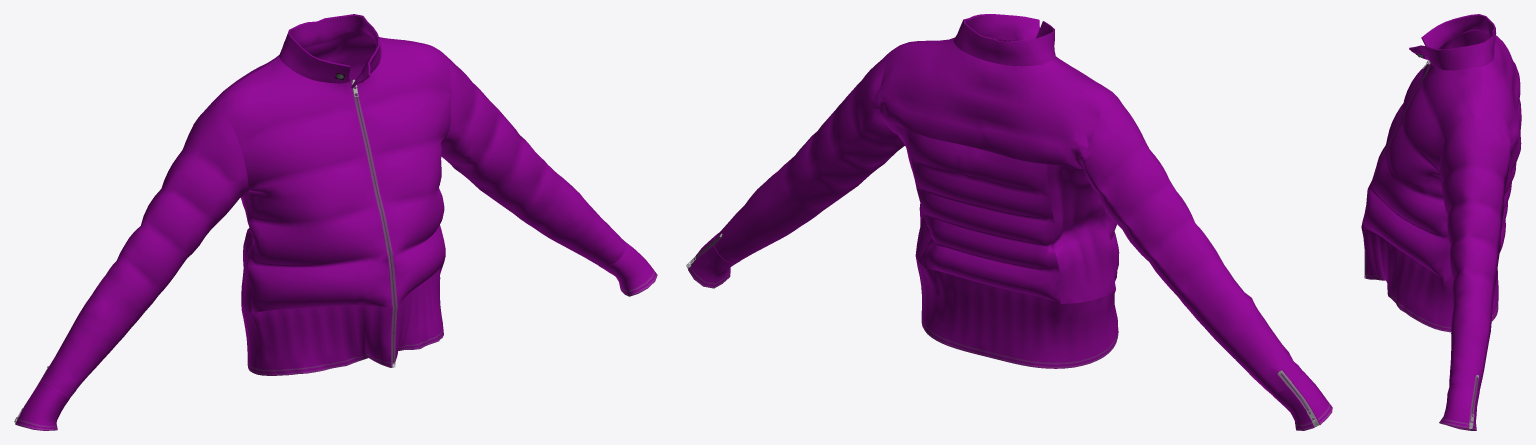
Rendered from purpal_puffer_jacket_low_poly.glb.
The picture shows the model from 3 angles, left to right: view 1: azimuth 30°, elevation 25°; view 2: azimuth 150°, elevation 25°; view 3: azimuth 270°, elevation 25°; orthographic projection. The views are drawn at different scales.
Parts seen in each view (by area): view 1: Object_19, Object_20, Object_21, Object_22, Object_27; view 2: Object_19, Object_21, Object_20, Object_22; view 3: Object_19, Object_21, Object_20, Object_22, Object_27, Object_25.
Boxes of the visible parts, x1=… form: Object_19: x1=15, y1=37, x2=626, y2=430; Object_20: x1=215, y1=15, x2=657, y2=375; Object_21: x1=211, y1=14, x2=657, y2=361; Object_22: x1=15, y1=30, x2=454, y2=430; Object_27: x1=351, y1=79, x2=397, y2=367; Object_19: x1=714, y1=37, x2=1332, y2=430; Object_21: x1=688, y1=14, x2=1289, y2=378; Object_20: x1=688, y1=15, x2=1287, y2=376; Object_22: x1=714, y1=20, x2=1332, y2=430; Object_19: x1=1361, y1=63, x2=1521, y2=390; Object_21: x1=1361, y1=14, x2=1520, y2=430; Object_20: x1=1372, y1=15, x2=1517, y2=430; Object_22: x1=1410, y1=29, x2=1496, y2=385; Object_27: x1=1363, y1=63, x2=1430, y2=278; Object_25: x1=1468, y1=374, x2=1479, y2=428.
Bounding box in the file's own units: 1.1 × 0.5518 × 0.2841.
Materials: 24 (9 with a texture image).
